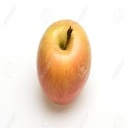orange: (35, 40, 77, 104)
